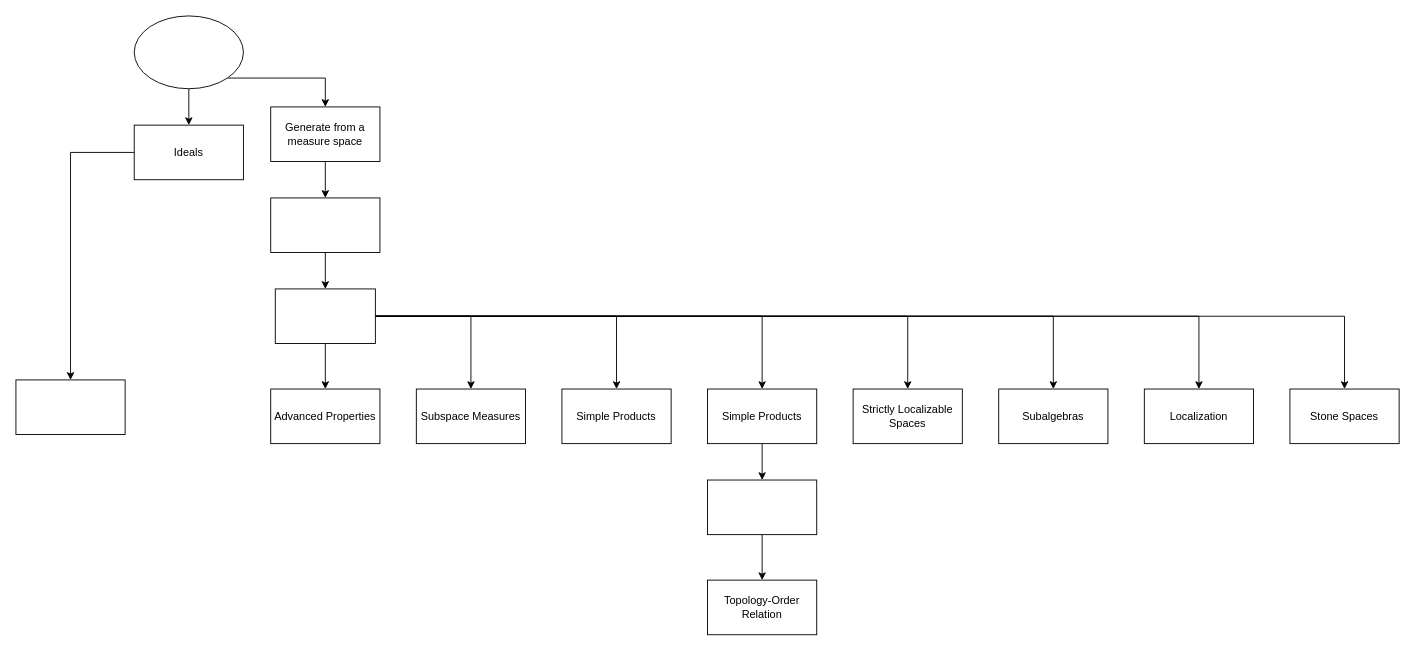
The diagram is 1415 pixels wide and 651 high, and some of its shapes have lost their labels. The shapes that lost their labels are listed below. From the top down, each one's centre as x and y in pixels, then its label:
At [188,52]: "Measure Algebra".
At [325,225]: "Stone Space Representation".
At [324,316]: "Measure Properties".
At [70,407]: "Purely finfinite elements".
At [762,507]: "Topology".
